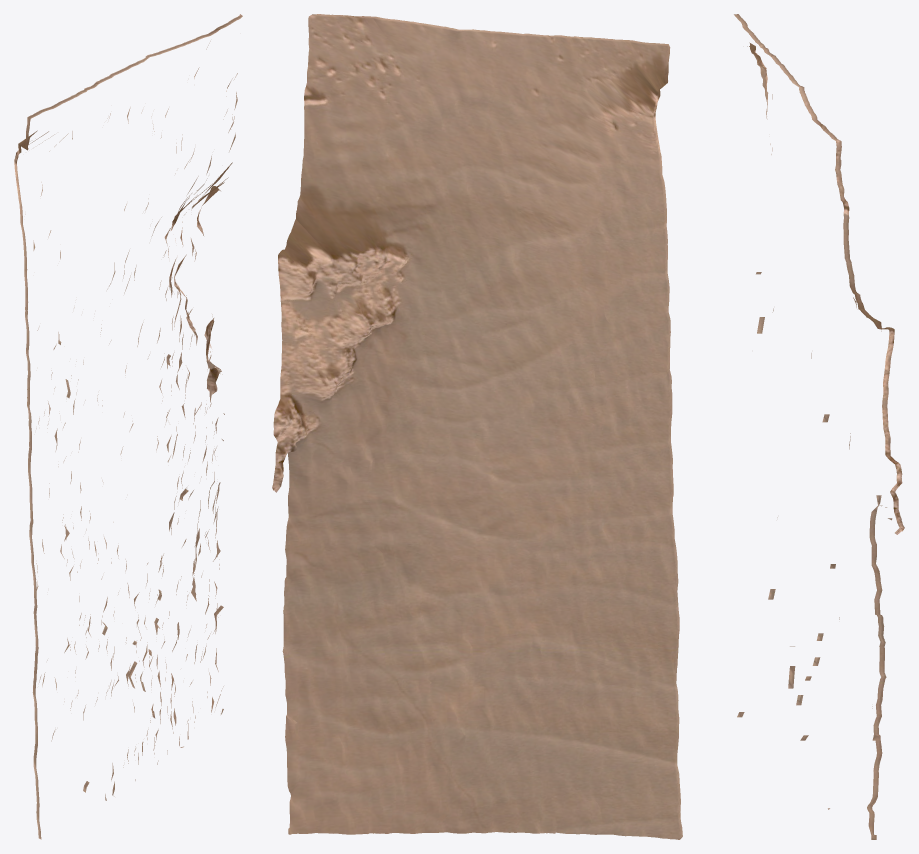
3 views of the same model, side by side, from view 1: azimuth 30°, elevation 25°; view 2: azimuth 150°, elevation 25°; view 3: azimuth 270°, elevation 25° (orthographic). The views are drawn at different scales.
Bounding box in the file's own units: 0.5678 × 1.46 × 0.3659.
Materials: 1 (1 with a texture image).
